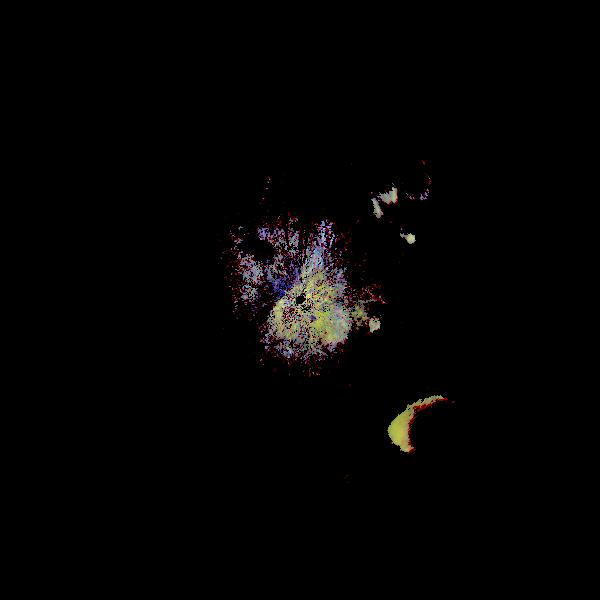roost: (360, 374, 534, 548)
